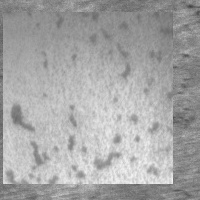pitted_surface: (3, 12, 173, 184)
rolled-in_scale: (75, 52, 127, 119), (111, 139, 155, 189)
